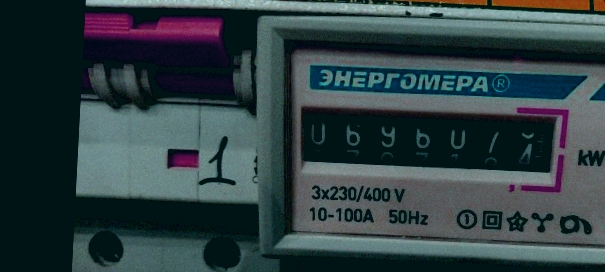0: (306, 116, 328, 147), (447, 120, 468, 151)
4: (513, 139, 534, 168)
6: (340, 116, 364, 147), (412, 120, 432, 149)
7: (482, 123, 500, 154)
9: (377, 119, 396, 149)
screen: (280, 87, 570, 192)
